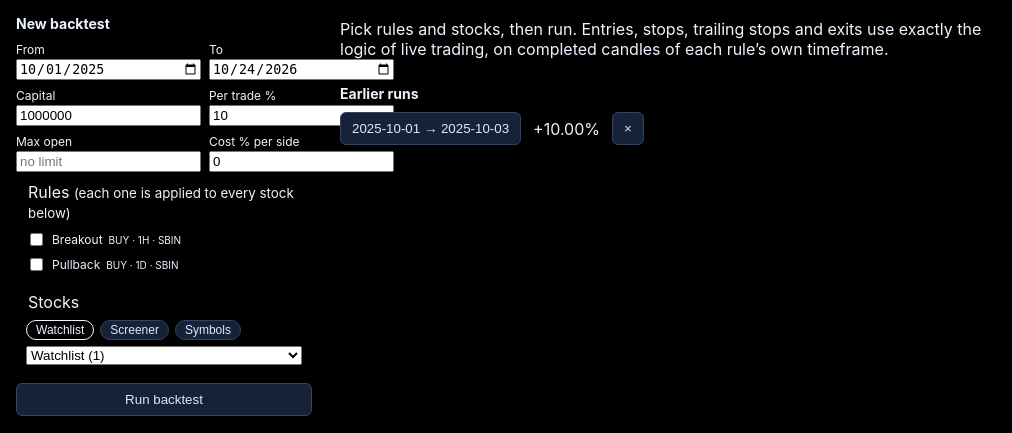
BacktestView › says why a backtest failed
Click the checkbox labelled "Breakout BUY · 1H · SBIN" at (36, 240), box [30, 233, 43, 246]
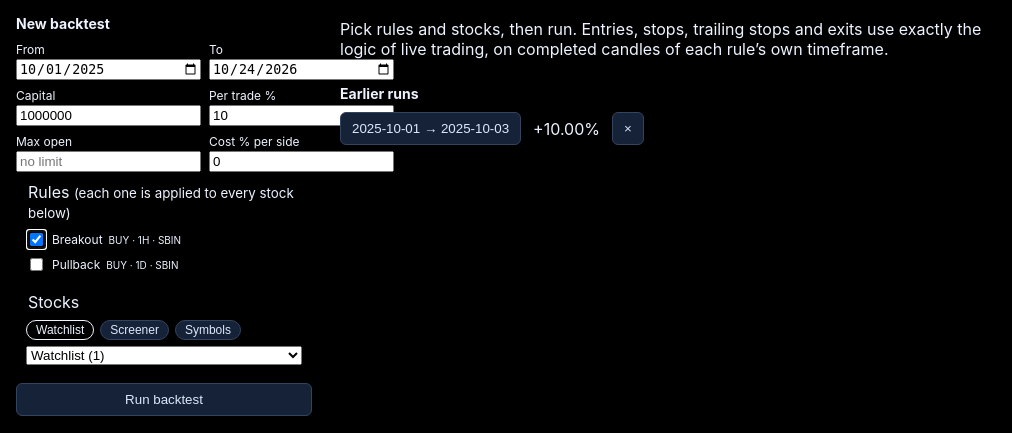
Click the button "Run backtest" at (164, 400), box [16, 383, 312, 416]
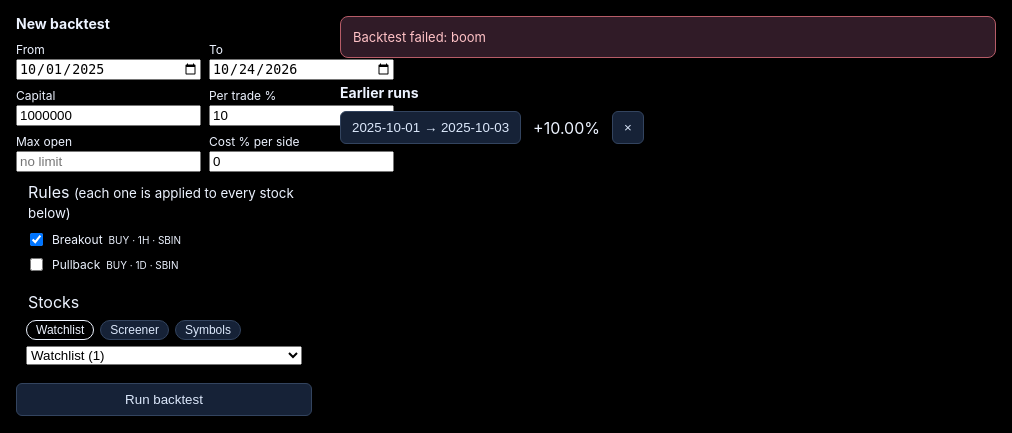
Now the message reads "Backtest failed: boom", box [340, 16, 996, 58]
